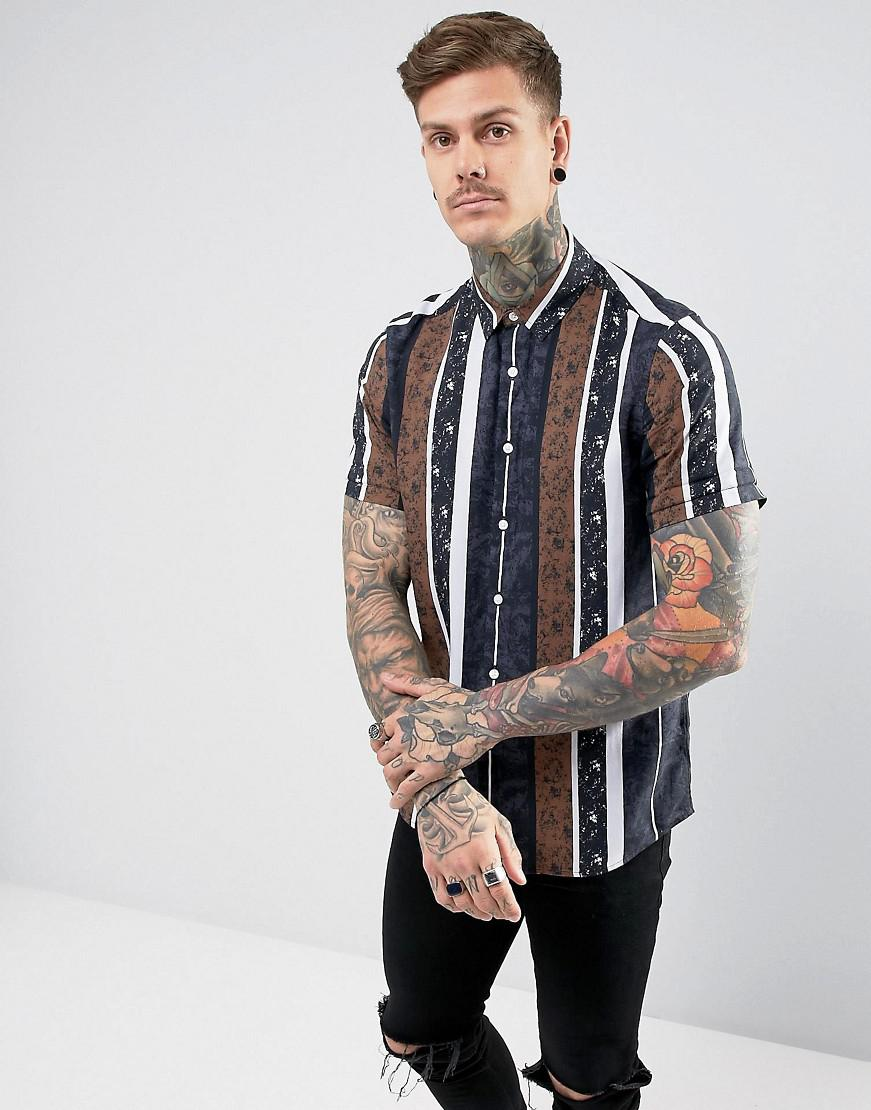teeshirt: (322, 240, 757, 920)
